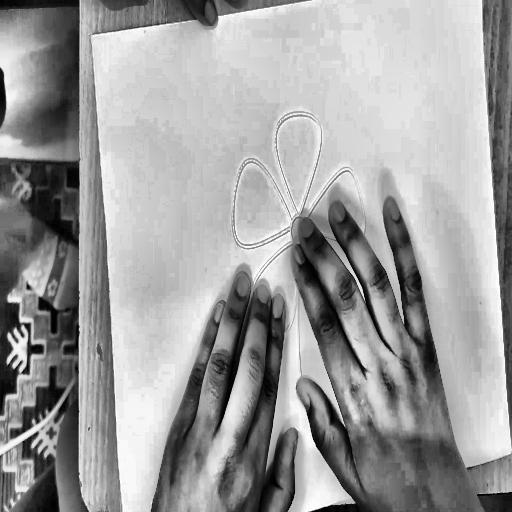bottom_right: (509, 449, 512, 455)
flower: (220, 93, 389, 470)
top_left: (88, 32, 95, 42)
